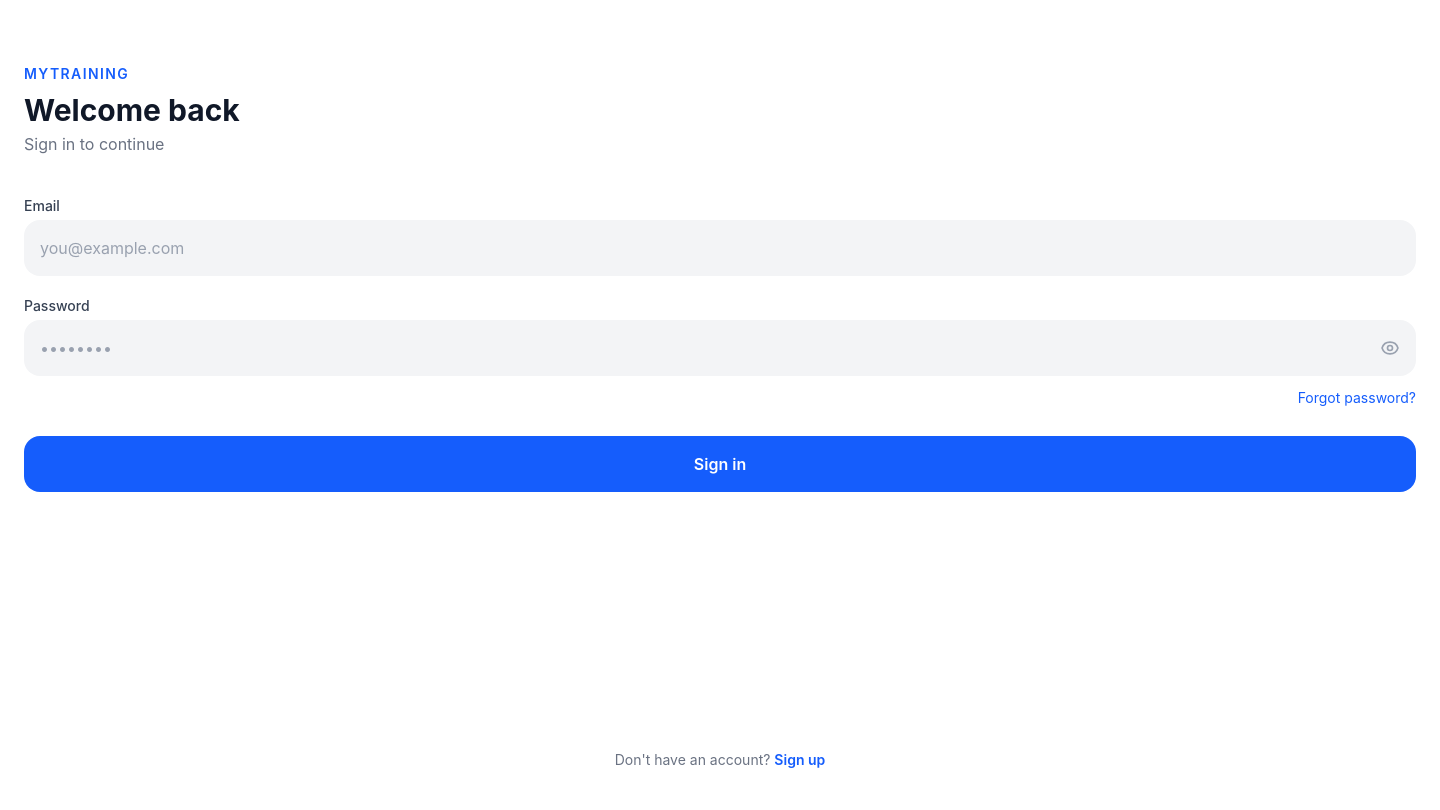
Test: LoginPage › disables the submit button and shows loading text while submitting
This screenshot has width=1440, height=810.
Type "test@example.com" into the field with placeholder "you@example.com" at [720, 248], box [24,220,1416,276]
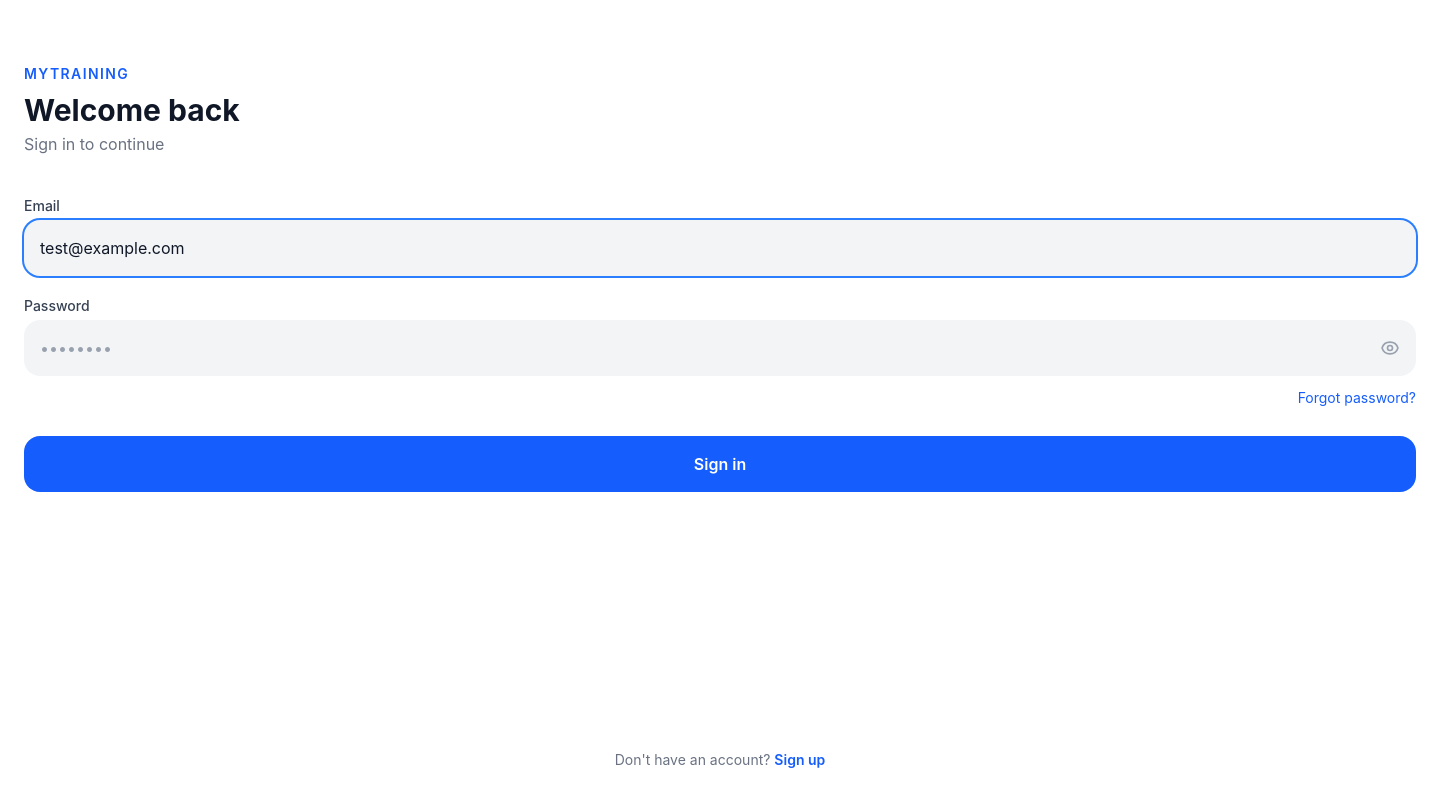
Type "password" into the password field with placeholder "••••••••" at [720, 348], box [24,320,1416,376]
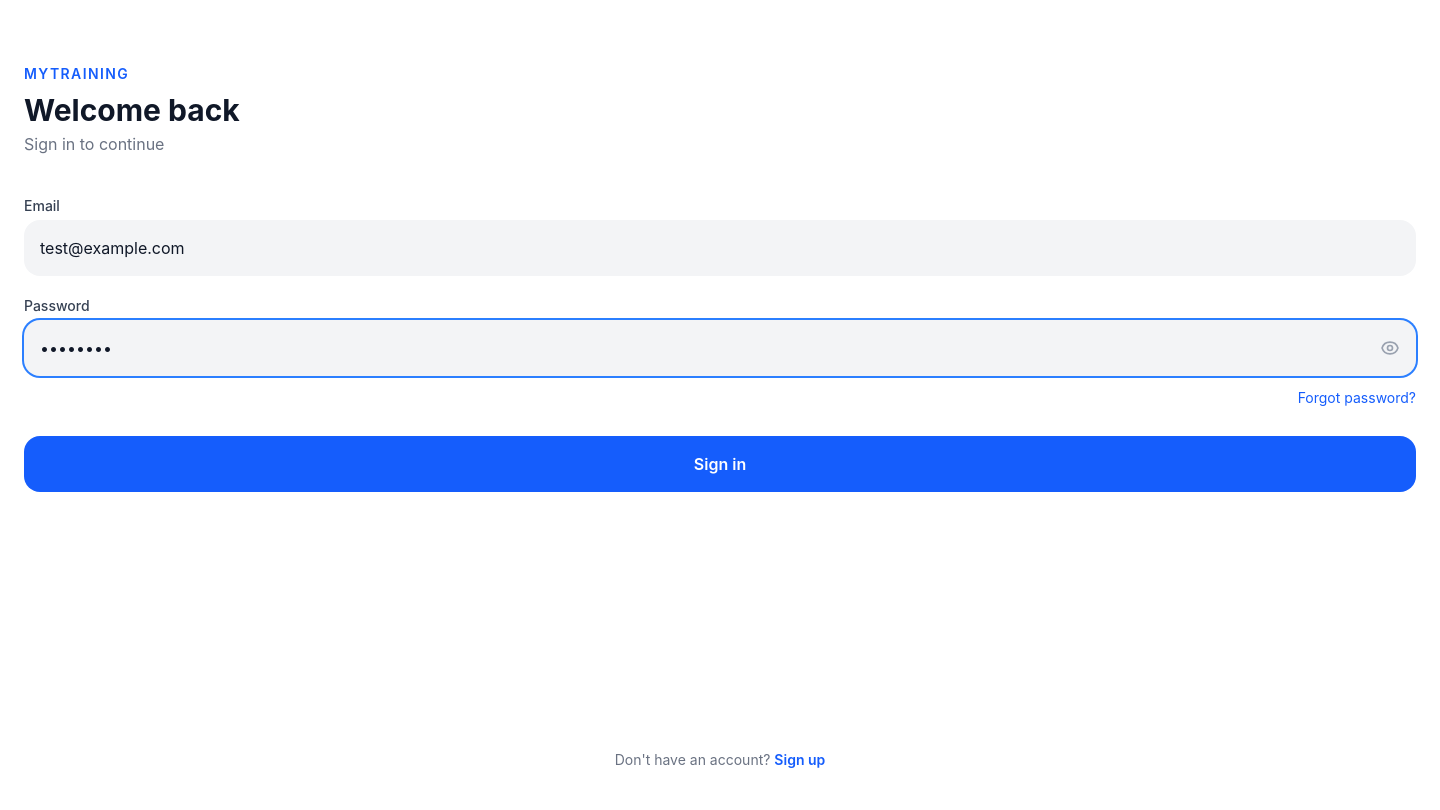
Click the button "Sign in" at [720, 464], box [24,436,1416,492]
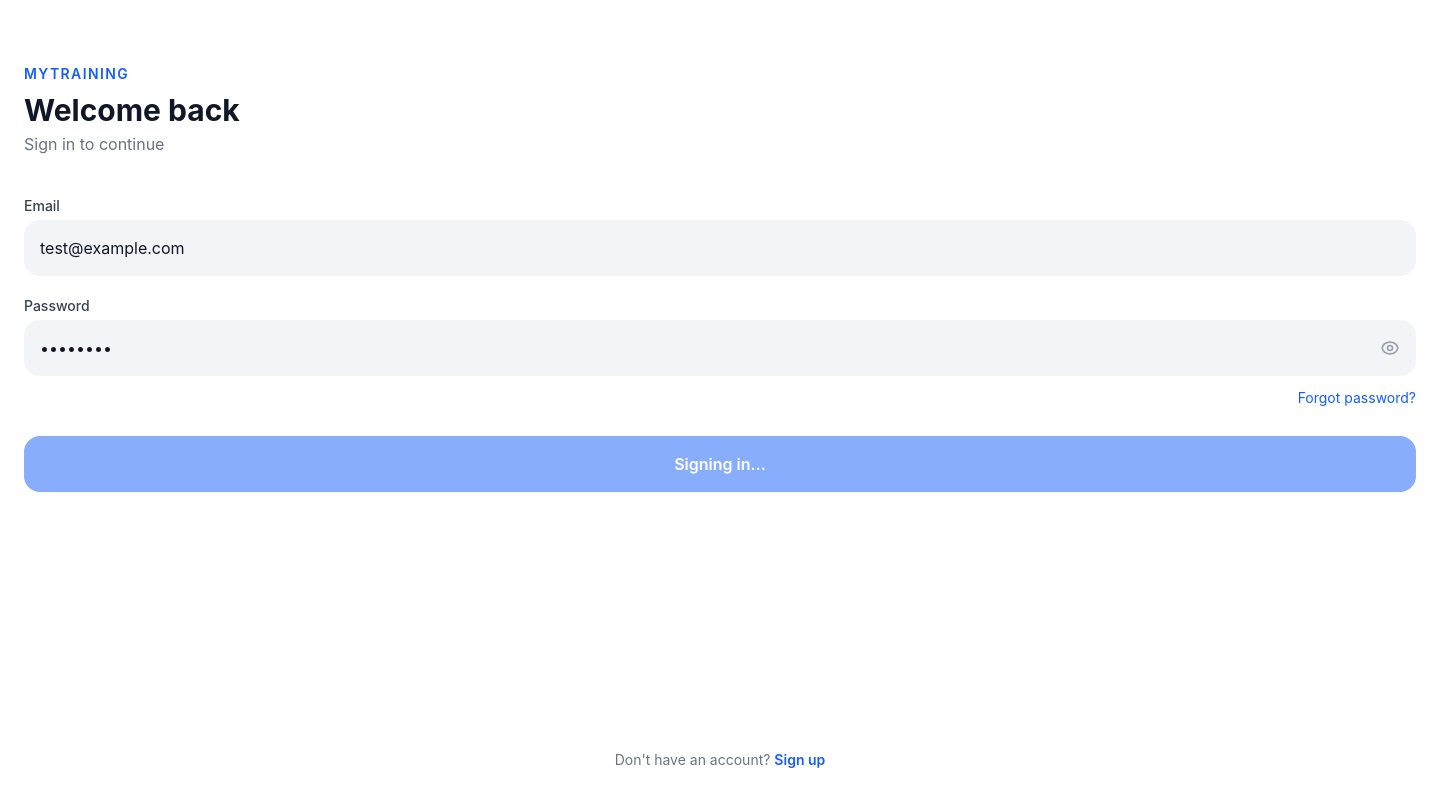
Check: the button "Signing in…" is disabled, box [24,436,1416,492]
